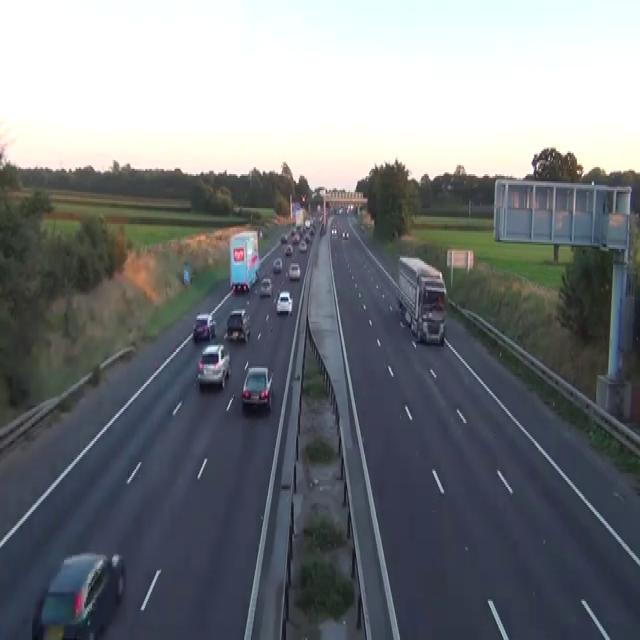Car: (31, 551, 125, 638), (196, 343, 231, 389), (241, 364, 273, 410), (418, 309, 445, 345), (223, 308, 250, 343), (192, 313, 216, 341), (275, 290, 293, 313), (259, 277, 273, 297), (288, 261, 300, 279), (232, 281, 249, 293), (272, 256, 282, 274), (284, 244, 293, 256), (319, 222, 326, 236), (299, 240, 307, 252), (280, 233, 287, 243), (346, 203, 353, 213), (292, 233, 299, 243), (295, 224, 302, 233), (303, 233, 310, 242), (304, 219, 310, 229), (342, 230, 349, 238), (331, 226, 337, 234), (309, 226, 315, 234), (338, 206, 343, 215), (259, 228, 262, 236)
Truck: (397, 254, 447, 345), (229, 230, 259, 294)
